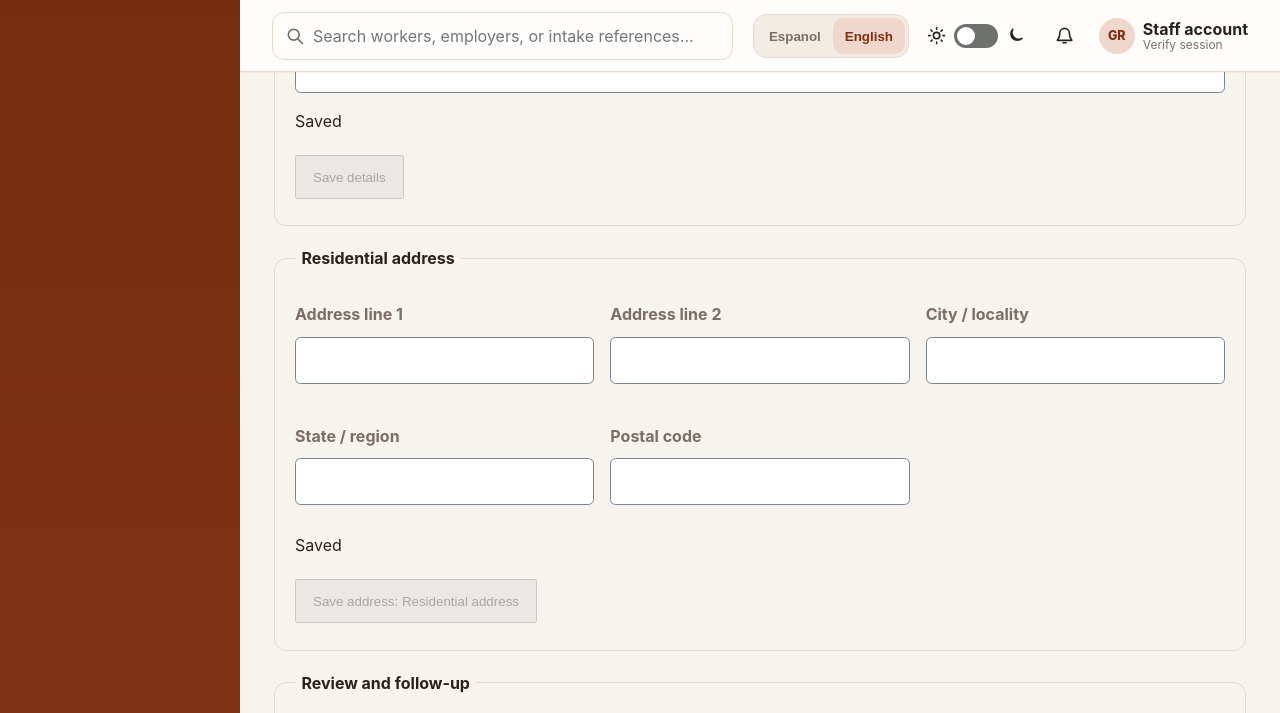
Test: staff intake drafts › accepts a submitted address save even when restricted reread cannot read it back
(page scrolled)
In the field labelled "Address line 1": (445, 360) [295, 337, 594, 384], type "Submitted address"
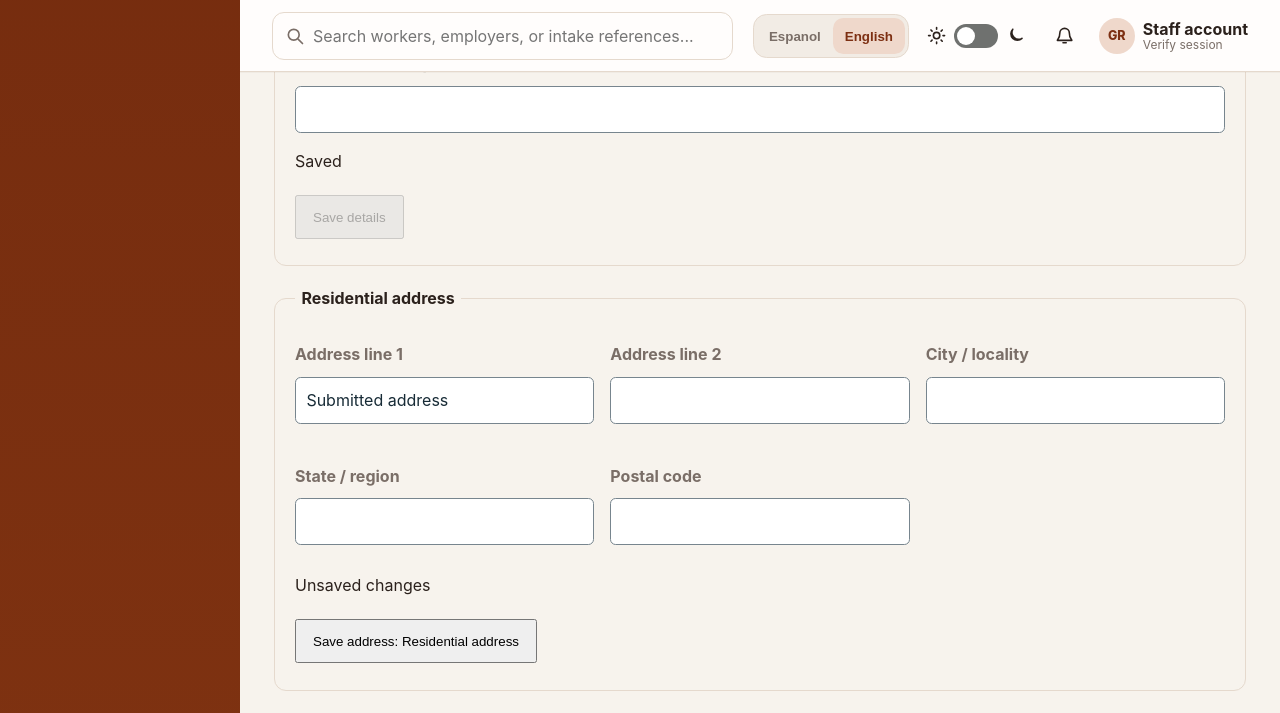
Click the button "Save address: Residential address": (416, 641) [295, 619, 537, 663]
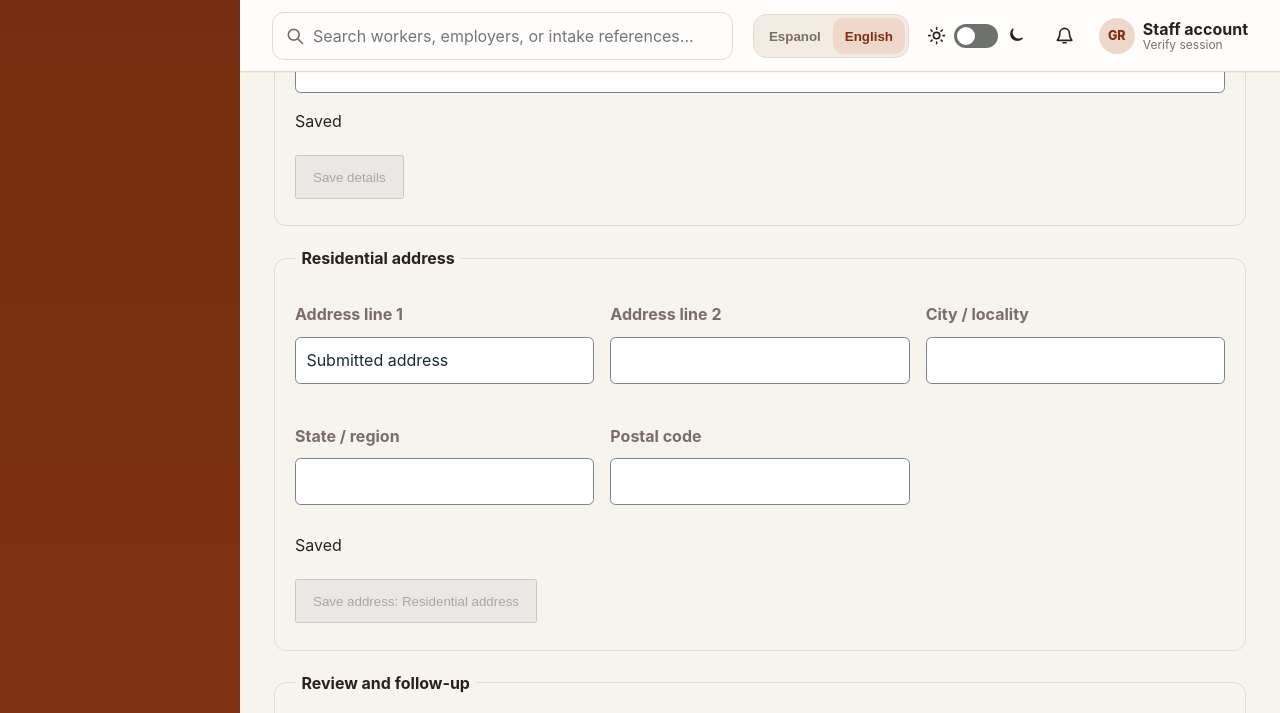
Now the button "Save address: Residential address" is disabled, box [295, 579, 537, 623]
